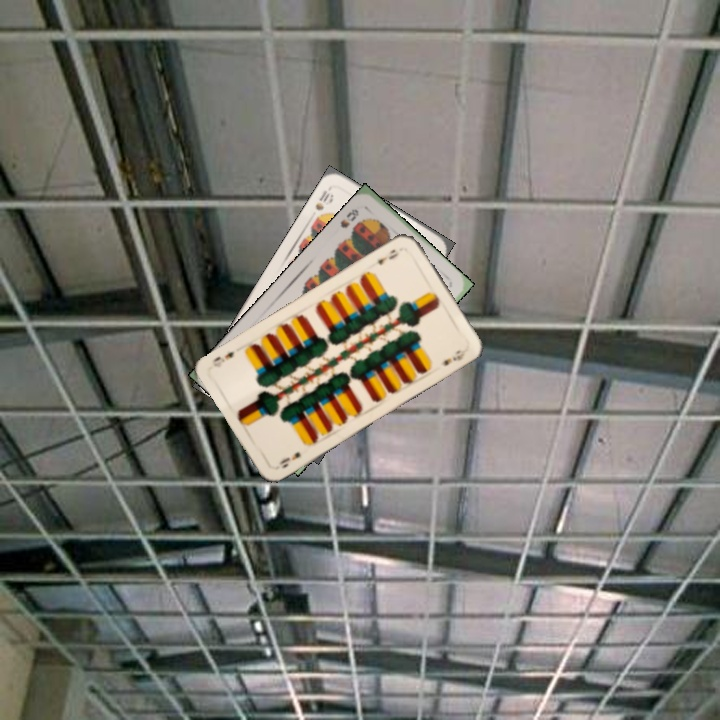E9: (373, 245, 401, 268), (275, 448, 303, 471)
S10: (311, 186, 336, 213)
S8: (336, 205, 361, 231)
